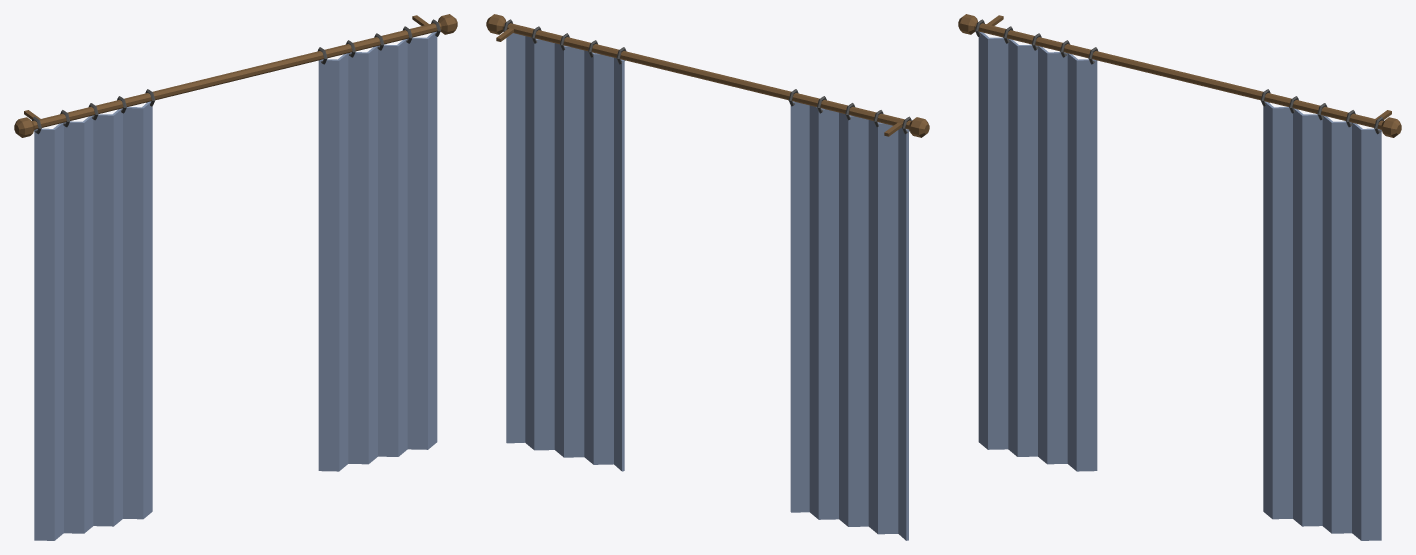
File: Curtains2_C1.fbx
The picture shows the model from 3 angles, left to right: view 1: azimuth 30°, elevation 25°; view 2: azimuth 150°, elevation 25°; view 3: azimuth 330°, elevation 25°; orthographic projection.
Visible parts, largest first — view 1: Curtains2_C1; view 2: Curtains2_C1; view 3: Curtains2_C1.
Part boxes in pixels (x1,y1,x2,y2): Curtains2_C1: (14,14,457,540); Curtains2_C1: (486,14,929,540); Curtains2_C1: (958,14,1401,540).
Bounding box in the file's own units: 162 × 150 × 13.37.
